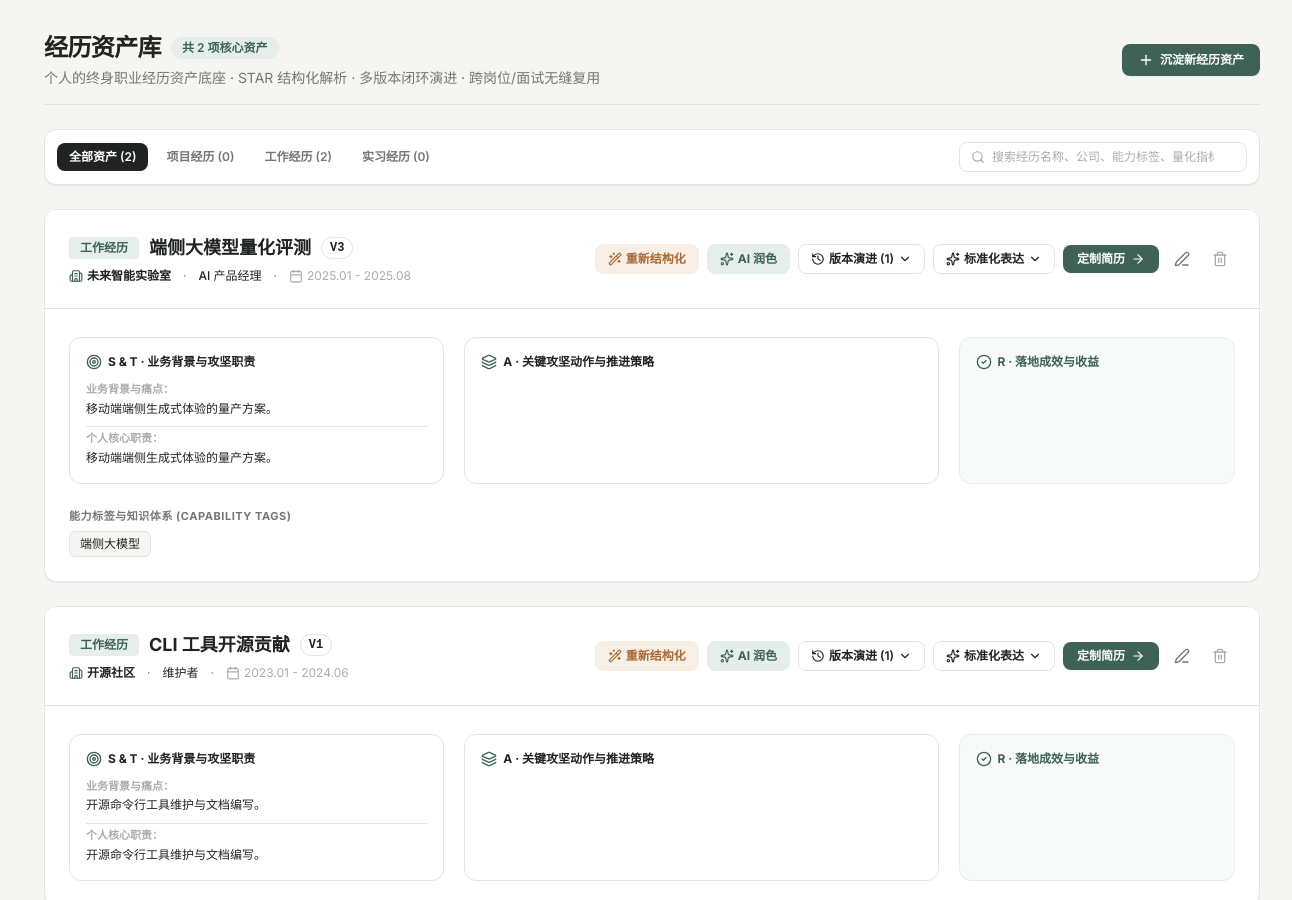
useExperiencesQuery 迁移视图 › delete：后端 deleteCard + cache 过滤
Expected: the heading "端侧大模型量化评测" is shown, [149,234,311,262]
Click the button titled "删除此经历" in the row of "2025.01 - 2025.08" at (1220, 259), box [1205,244,1235,274]
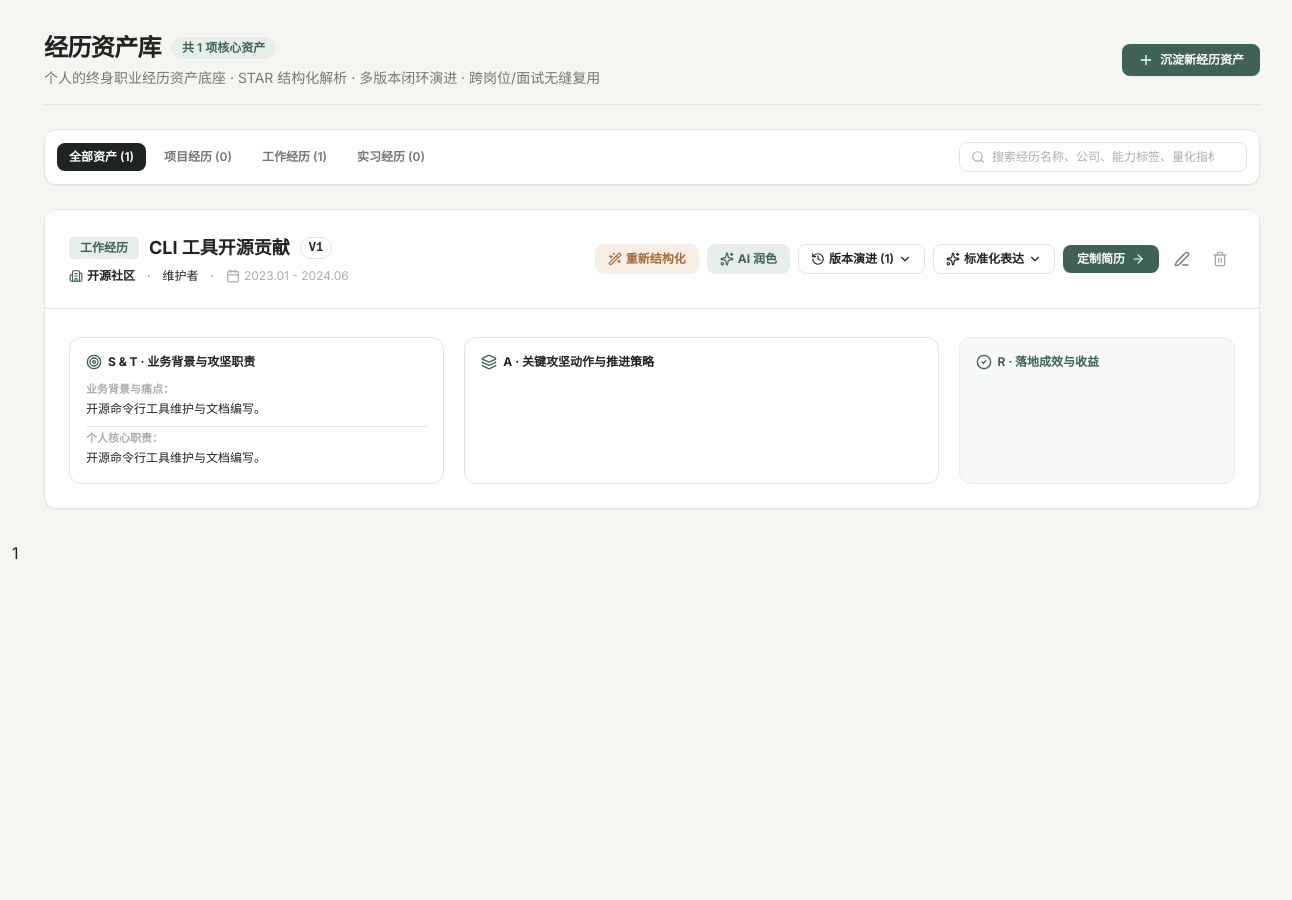
Expected: the button "全部资产 (1)" is shown, [57,143,146,171]
Expected: the heading "端侧大模型量化评测" is gone
Expected: the text with test id "exp-cache-count" reads "1", [12,543,18,563]
